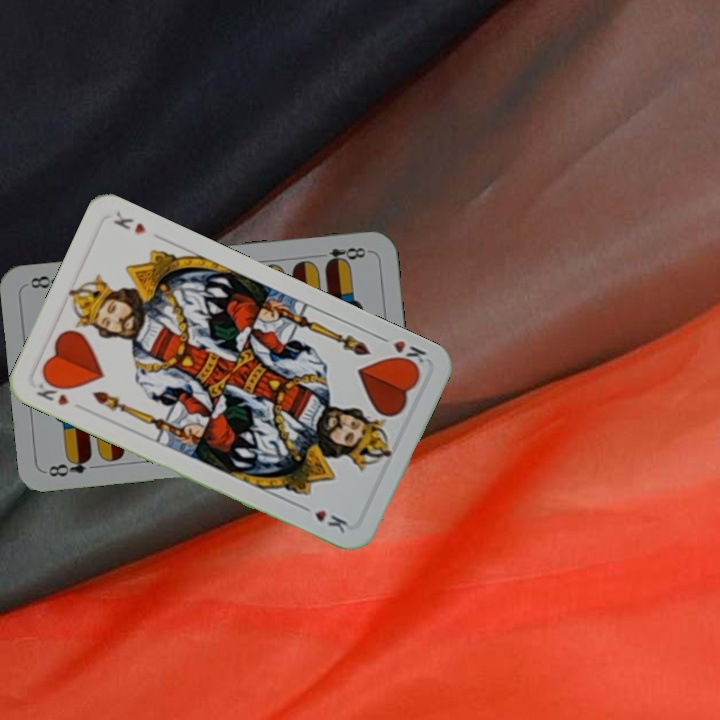E8: (312, 243, 372, 268), (44, 452, 94, 480)
HK: (374, 331, 430, 372), (32, 385, 71, 408)
